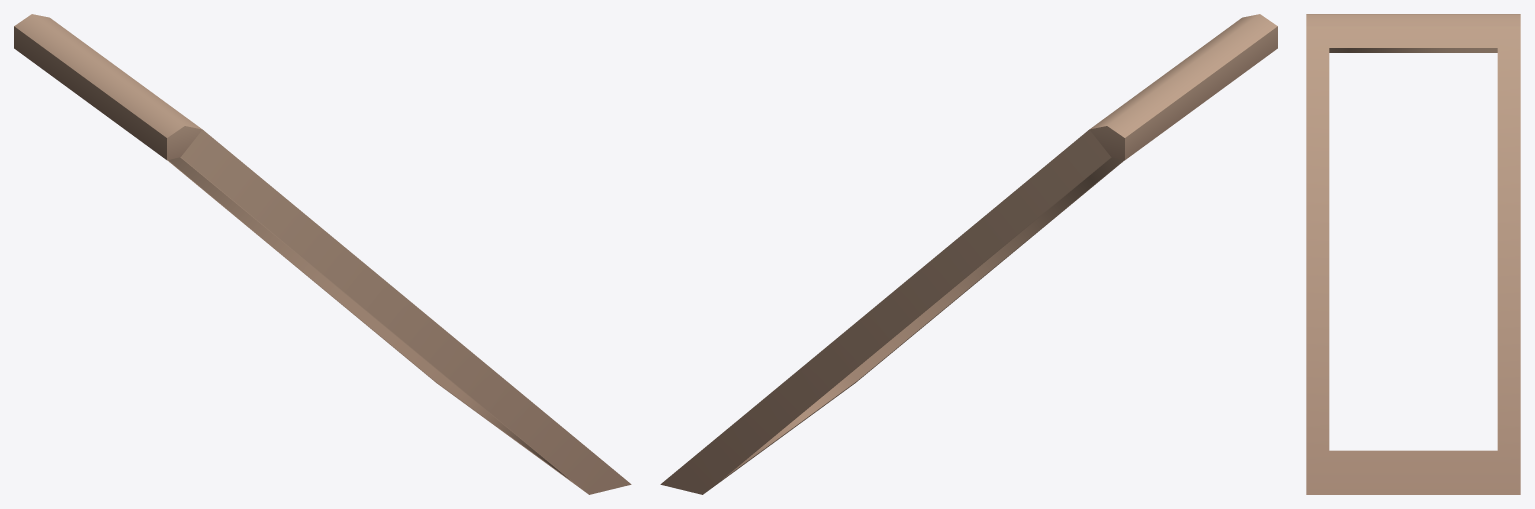
Rendered from roof-window.glb.
The picture shows the model from 3 angles, left to right: view 1: azimuth 30°, elevation 25°; view 2: azimuth 150°, elevation 25°; view 3: azimuth 270°, elevation 25°; orthographic projection. The views are drawn at different scales.
Parts seen in each view (by area): view 1: roof-window; view 2: roof-window; view 3: roof-window.
Part boxes in pixels (box(x1,y1,x2,y2)): roof-window: box(14, 14, 631, 494); roof-window: box(660, 14, 1277, 494); roof-window: box(1306, 14, 1520, 494).
Bounding box in the file's own units: 1.64 × 1.58 × 0.9333.
